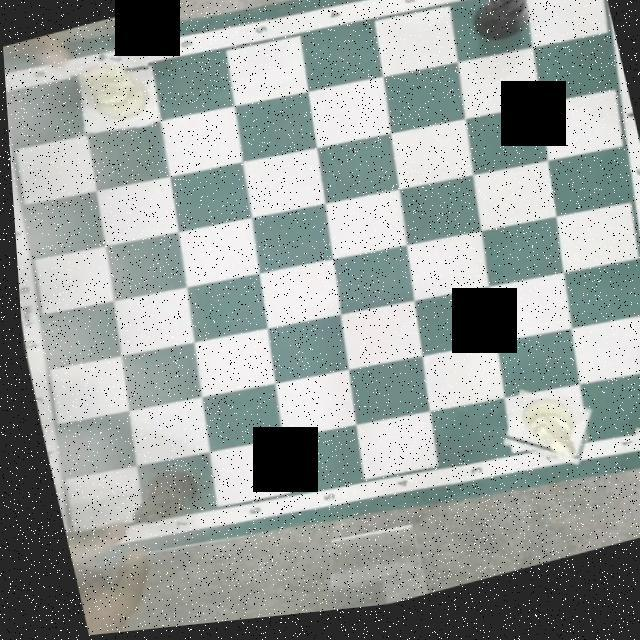chess-table-corners: (4, 58, 32, 124), (57, 522, 83, 562), (622, 417, 640, 468), (584, 0, 604, 6)
